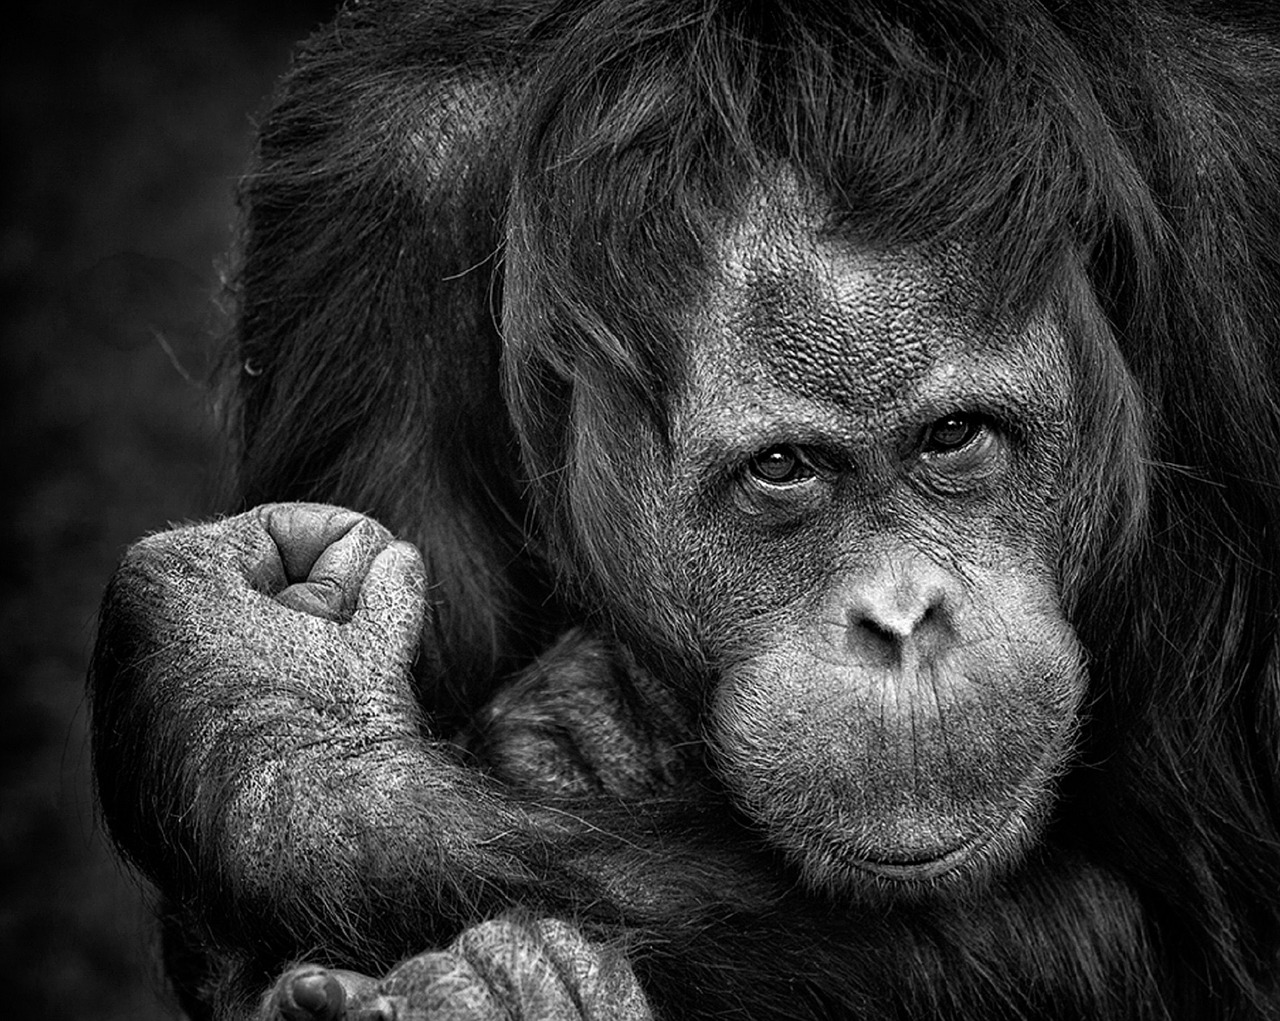fist: (120, 503, 433, 812)
